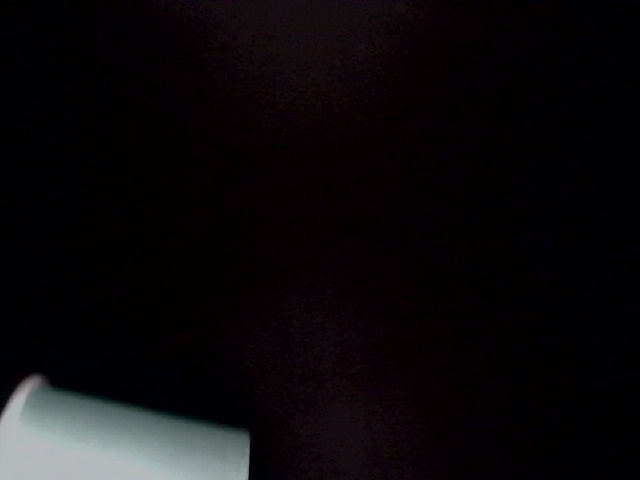KHSLJ: (1, 2, 351, 284)
